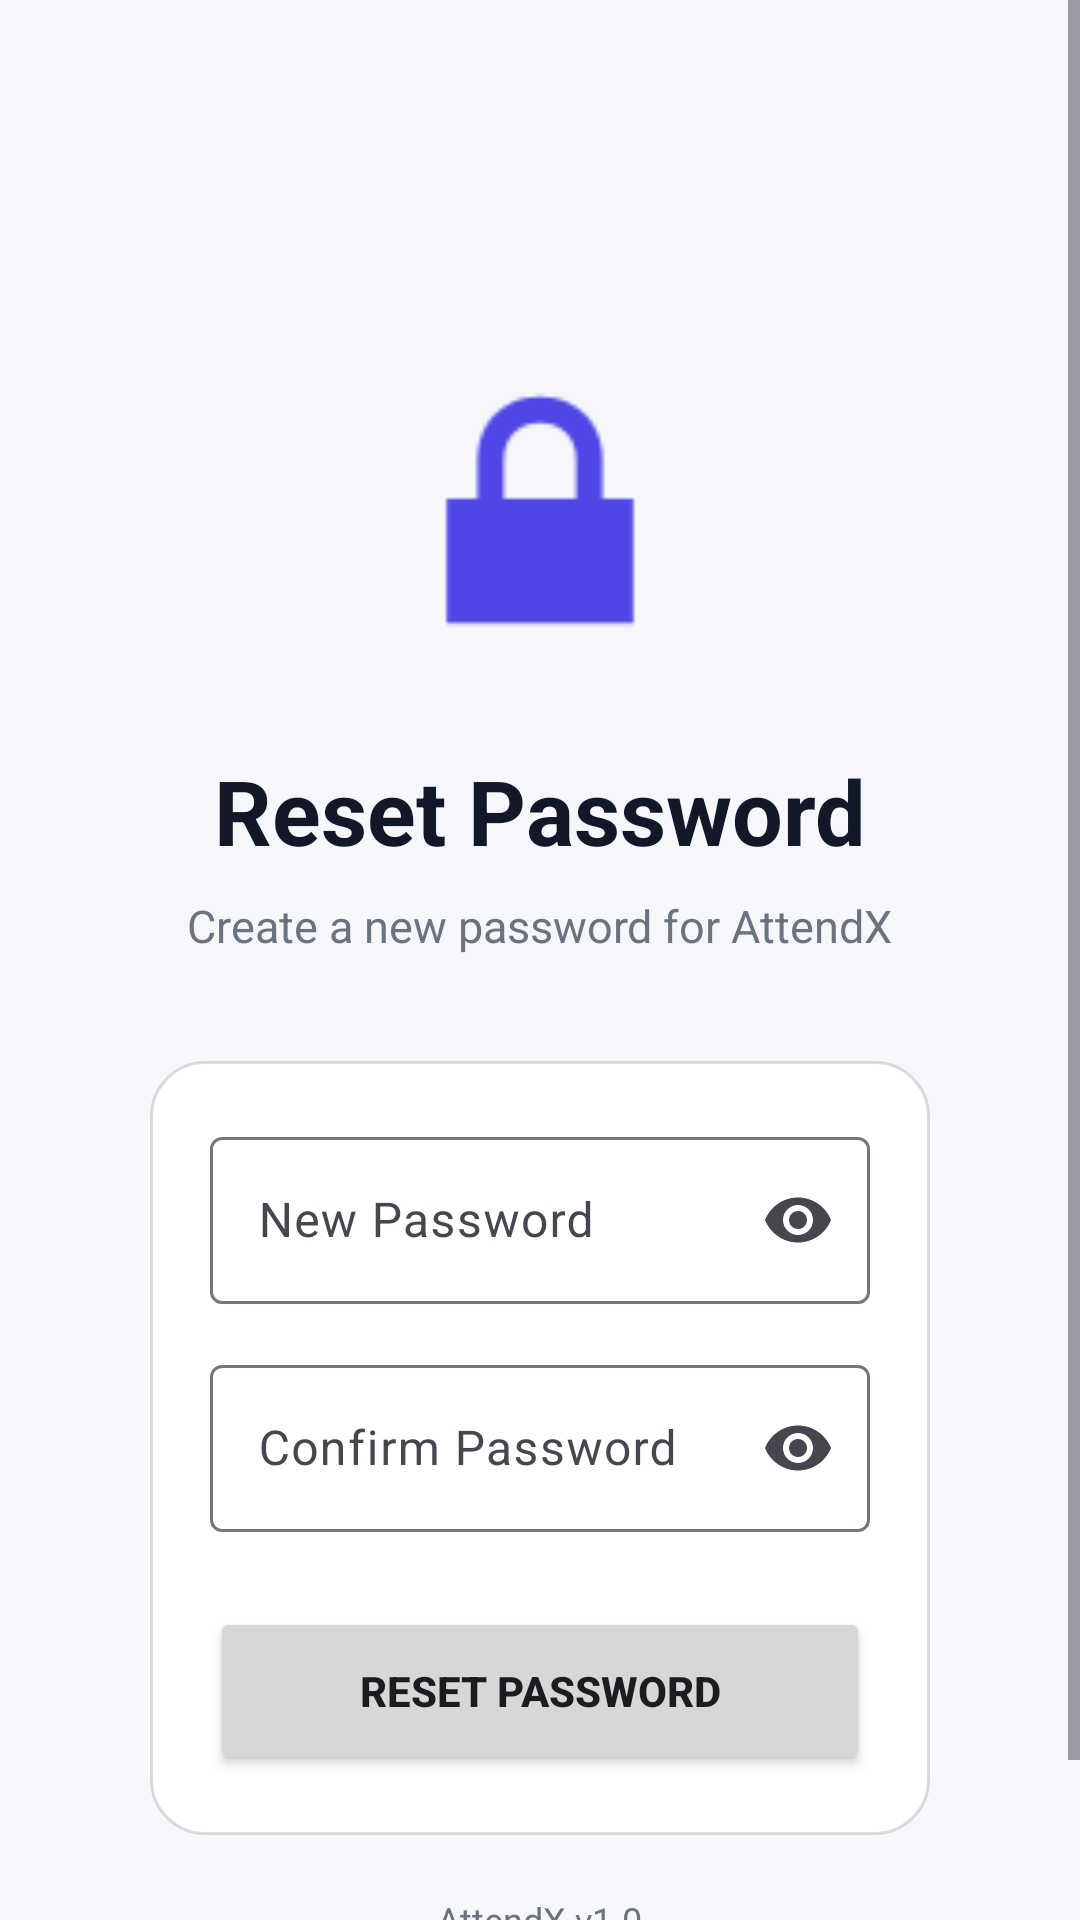

Locate icon controls on the screen. Image size 1080w x 1920h, boxes as (x1, y1, x2, y2).
lock: (445, 394, 635, 626)
